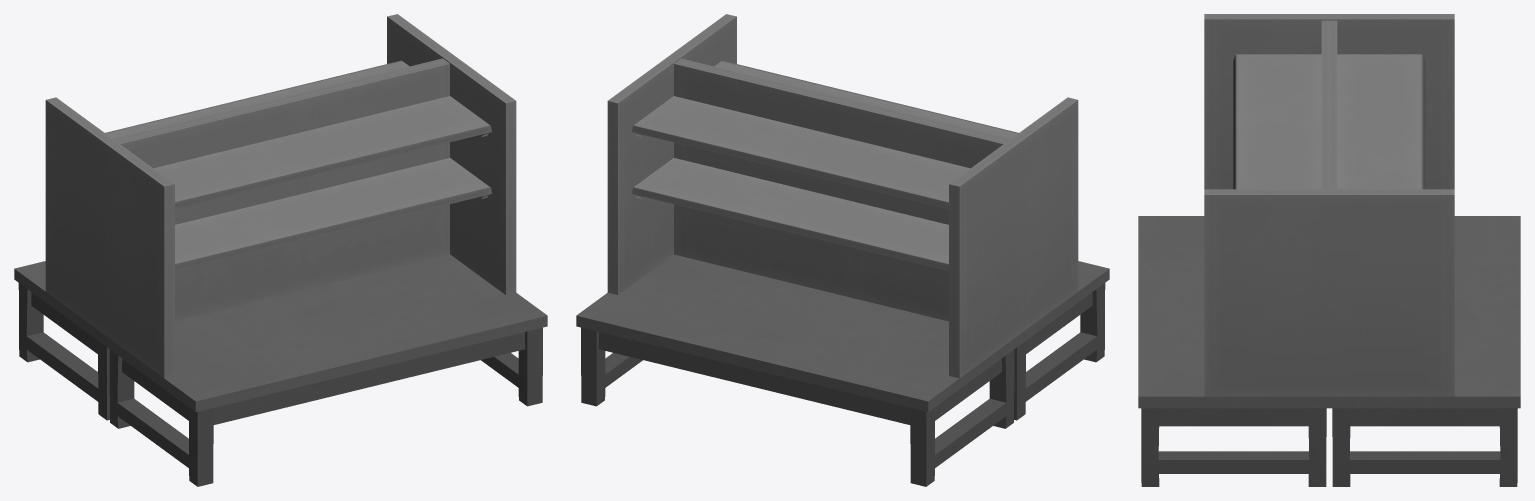
File: Pfb_Table_03_1_JLAB__2.fbx
3 renders of one model, left to right at view 1: azimuth 30°, elevation 25°; view 2: azimuth 150°, elevation 25°; view 3: azimuth 270°, elevation 25°, orthographic. The views are drawn at different scales.
Parts seen in each view (by area): view 1: Mat_Shop_Shelf_01_White, Mat_Table_02White; view 2: Mat_Shop_Shelf_01_White, Mat_Table_02White; view 3: Mat_Shop_Shelf_01_White, Mat_Table_02White.
Part boxes in pixels (bbox=[...]): Mat_Shop_Shelf_01_White: bbox=[45, 14, 516, 378]; Mat_Table_02White: bbox=[14, 254, 547, 486]; Mat_Shop_Shelf_01_White: bbox=[607, 14, 1078, 378]; Mat_Table_02White: bbox=[576, 254, 1109, 486]; Mat_Shop_Shelf_01_White: bbox=[1204, 14, 1454, 396]; Mat_Table_02White: bbox=[1138, 216, 1520, 486].
Size of the model in its own units: 2.78 by 2.1 by 2.48.
Materials: 2 (2 with a texture image).
